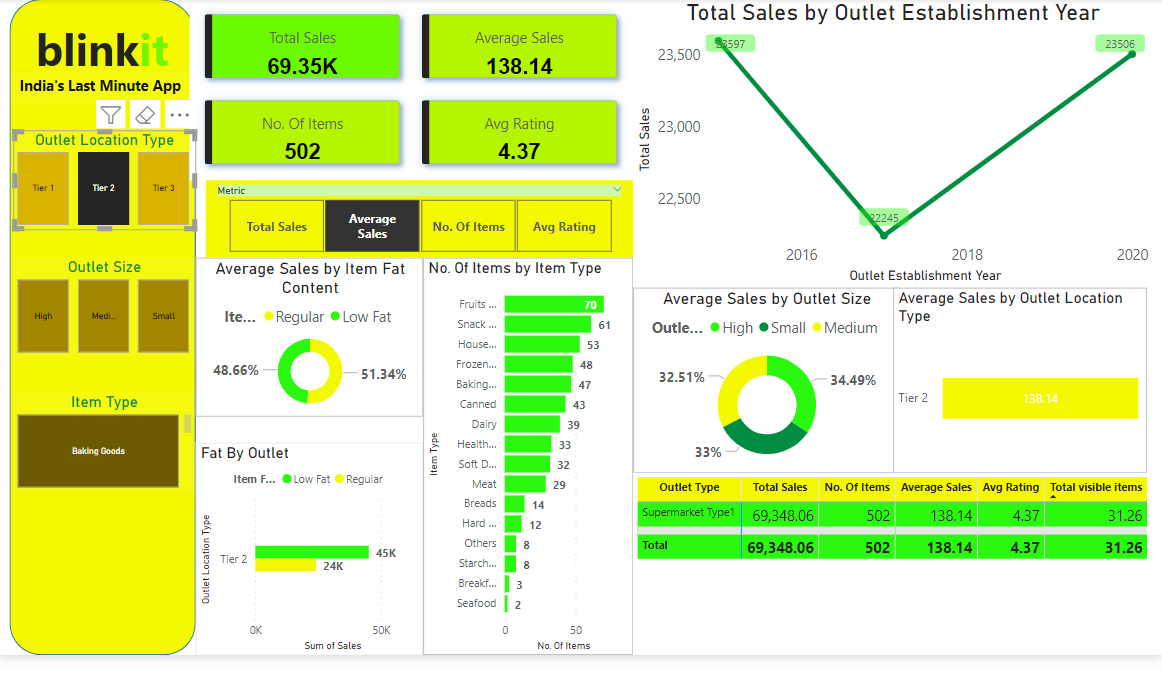

This screenshot's page, from the dashboard's own definition file:
{"tool":"powerbi","page":{"name":"Page 1","canvas":[1280,720],"ordinal":0},"visuals":[{"type":"shape","box":[13.7,0,204.5,720.4],"z":0},{"type":"textbox","box":[30.2,16.5,170.2,74.1],"z":1000},{"type":"textbox","box":[11,78.2,204.5,37],"z":2000},{"type":"cardVisual","fields":{"Data":["BlinkIT Grocery Data.Total Sales","BlinkIT Grocery Data.Average Sales","BlinkIT Grocery Data.No. Of Items","BlinkIT Grocery Data.Avg Rating"]},"box":[211.3,0,487.1,199],"z":3000},{"type":"donutChart","fields":{"Y":["BlinkIT Grocery Data.Average Sales"],"Category":["BlinkIT Grocery Data.Item Fat Content"]},"box":[218.2,284,249.7,174.3],"z":4000},{"type":"slicer","fields":{"Values":["Metric.Metric"]},"box":[229.2,199,469.3,85.1],"z":5000},{"type":"clusteredBarChart","title":"Fat By Outlet","fields":{"Y":["Sum(BlinkIT Grocery Data.Sales)"],"Category":["BlinkIT Grocery Data.Outlet Location Type"],"Series":["BlinkIT Grocery Data.Item Fat Content"]},"box":[218.2,487.1,249.7,233.3],"z":6000},{"type":"clusteredBarChart","fields":{"Y":["BlinkIT Grocery Data.No. Of Items"],"Category":["BlinkIT Grocery Data.Item Type"]},"box":[467.9,284,230.5,436.4],"z":7000},{"type":"lineChart","fields":{"Y":["BlinkIT Grocery Data.Total Sales"],"Category":["BlinkIT Grocery Data.Outlet Establishment Year"]},"box":[698.5,0,570.8,317],"z":8000},{"type":"donutChart","fields":{"Y":["BlinkIT Grocery Data.Average Sales"],"Category":["BlinkIT Grocery Data.Outlet Size"]},"box":[698.5,317,292.3,203.1],"z":9000},{"type":"funnel","fields":{"Y":["BlinkIT Grocery Data.Average Sales"],"Category":["BlinkIT Grocery Data.Outlet Location Type"]},"box":[983.9,317,278.6,203.1],"z":10000},{"type":"pivotTable","fields":{"Values":["BlinkIT Grocery Data.Total Sales","BlinkIT Grocery Data.No. Of Items","BlinkIT Grocery Data.Average Sales","BlinkIT Grocery Data.Avg Rating","Sum(BlinkIT Grocery Data.Item Visibility)"],"Rows":["BlinkIT Grocery Data.Outlet Type"]},"box":[698.5,520.1,581.8,200.3],"z":11000},{"type":"advancedSlicerVisual","fields":{"Values":["BlinkIT Grocery Data.Outlet Size"]},"box":[17.8,284,200.3,109.8],"z":12000},{"type":"advancedSlicerVisual","fields":{"Values":["BlinkIT Grocery Data.Outlet Location Type"]},"box":[17.8,144.1,200.3,109.8],"z":13000},{"type":"advancedSlicerVisual","fields":{"Values":["BlinkIT Grocery Data.Item Type"]},"box":[17.8,432.2,200.3,109.8],"z":13001}]}

Visuals, with their boxes on the page's 1280x720 design canvas (x1, y1, x2, y2). These are canvas units, not pixel positions in the 1162x689 screenshot, which may show the page scaled, cropped or inside an application window:
shape: (14,0,218,720)
textbox: (30,16,200,91)
textbox: (11,78,216,115)
cardVisual - BlinkIT Grocery Data.Total Sales x BlinkIT Grocery Data.Average Sales: (211,0,698,199)
donutChart - BlinkIT Grocery Data.Average Sales x BlinkIT Grocery Data.Item Fat Content: (218,284,468,458)
slicer - Metric.Metric: (229,199,698,284)
"Fat By Outlet" clusteredBarChart: (218,487,468,720)
clusteredBarChart - BlinkIT Grocery Data.No. Of Items x BlinkIT Grocery Data.Item Type: (468,284,698,720)
lineChart - BlinkIT Grocery Data.Total Sales x BlinkIT Grocery Data.Outlet Establishment Year: (698,0,1269,317)
donutChart - BlinkIT Grocery Data.Average Sales x BlinkIT Grocery Data.Outlet Size: (698,317,991,520)
funnel - BlinkIT Grocery Data.Average Sales x BlinkIT Grocery Data.Outlet Location Type: (984,317,1262,520)
pivotTable - BlinkIT Grocery Data.Total Sales x BlinkIT Grocery Data.No. Of Items: (698,520,1280,720)
advancedSlicerVisual - BlinkIT Grocery Data.Outlet Size: (18,284,218,394)
advancedSlicerVisual - BlinkIT Grocery Data.Outlet Location Type: (18,144,218,254)
advancedSlicerVisual - BlinkIT Grocery Data.Item Type: (18,432,218,542)
